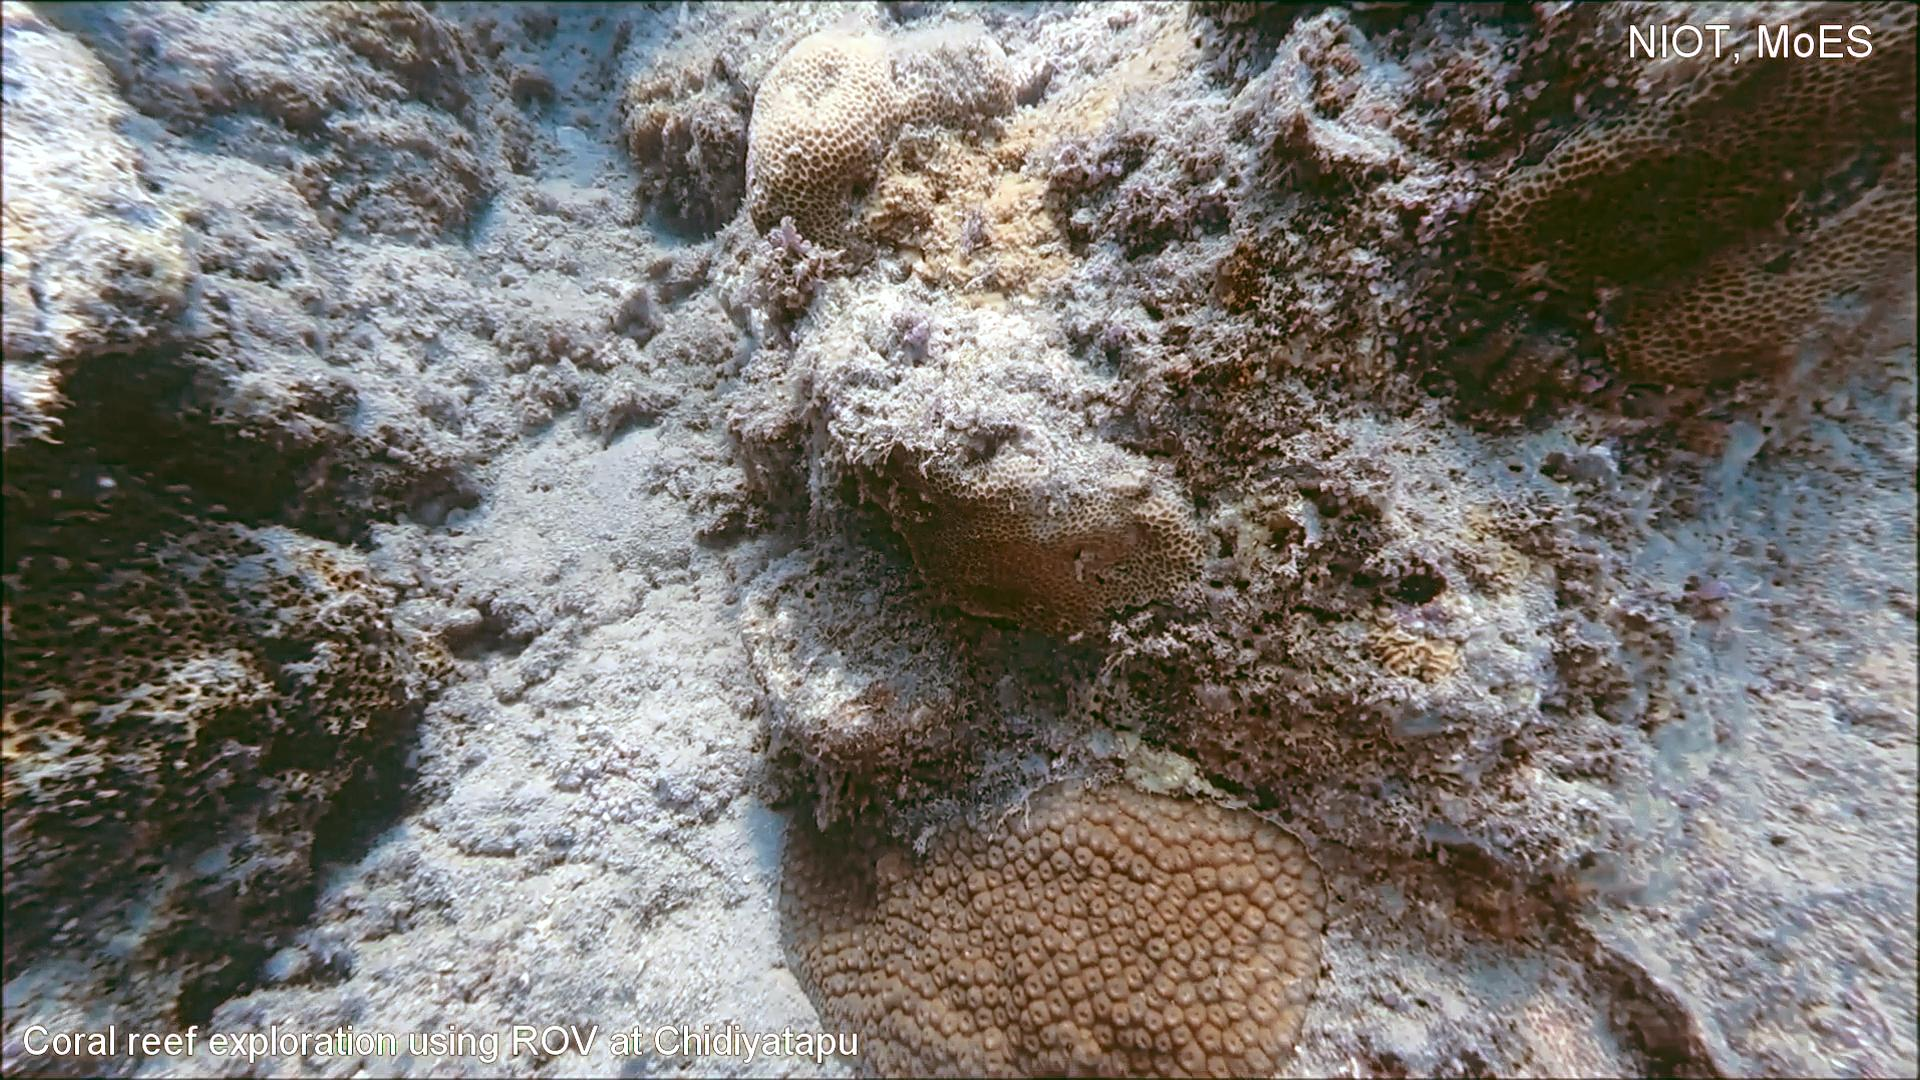Montastraea: (766, 745, 1344, 1080)
